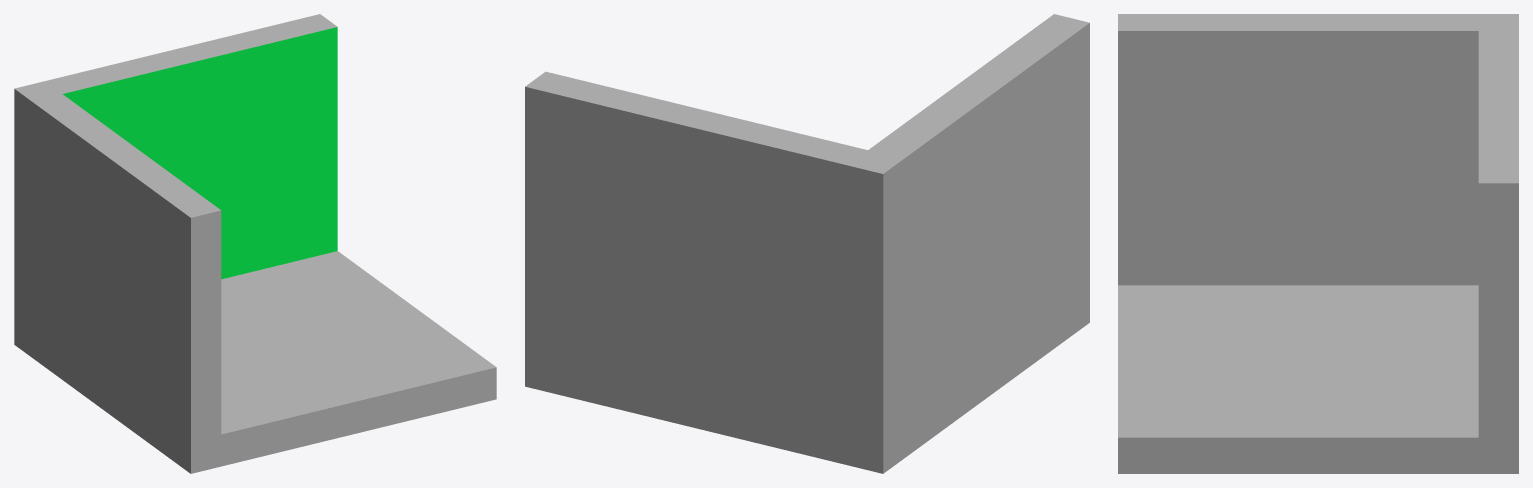
The model's file is studio.gltf.
3 renders of one model, left to right at view 1: azimuth 30°, elevation 25°; view 2: azimuth 150°, elevation 25°; view 3: azimuth 270°, elevation 25°, orthographic. The views are drawn at different scales.
Visible parts, largest first — view 1: studiomesh; view 2: studiomesh; view 3: studiomesh.
Part boxes in pixels (bbox=[...]): studiomesh: bbox=[14, 14, 496, 473]; studiomesh: bbox=[525, 14, 1089, 473]; studiomesh: bbox=[1118, 14, 1518, 473].
Bounding box in the file's own units: 2 × 1.6 × 2.
